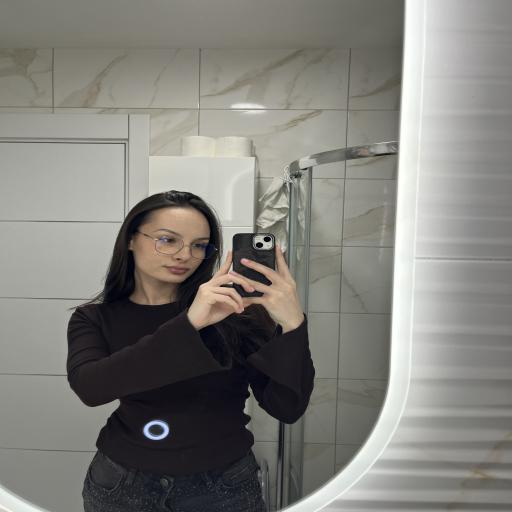marija: (129, 209, 213, 282)
